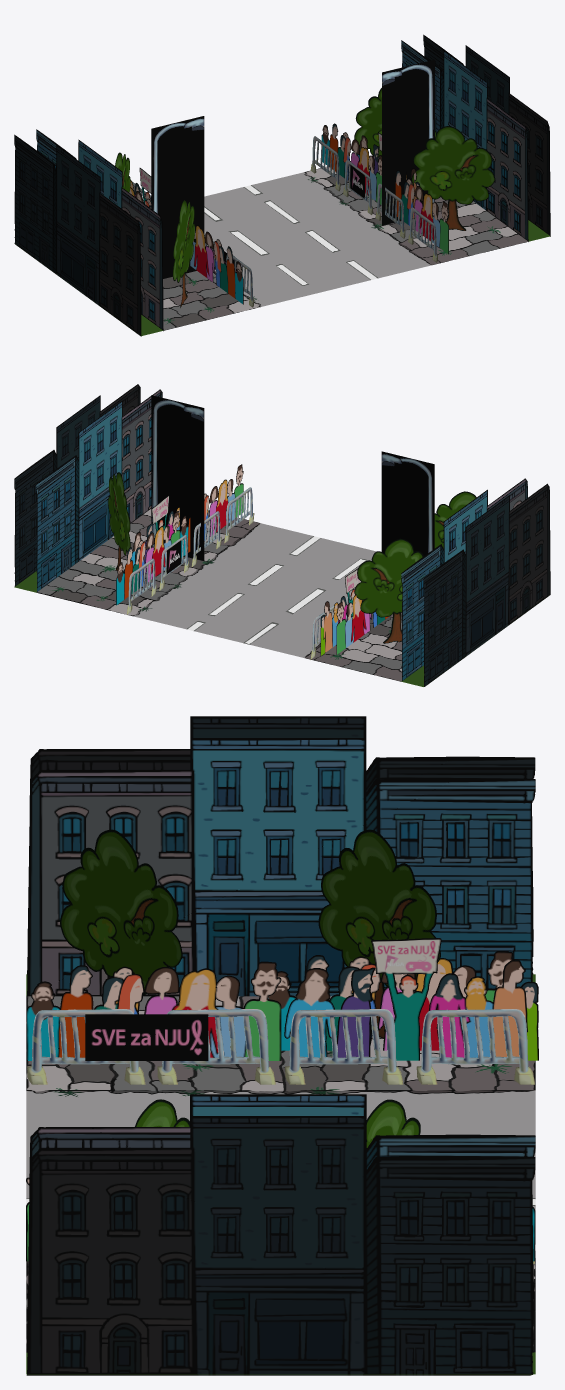
The model's file is Scene1_backface.fbx.
3 views of the same model, one above another, from view 1: azimuth 30°, elevation 25°; view 2: azimuth 150°, elevation 25°; view 3: azimuth 270°, elevation 25° (orthographic). The views are drawn at different scales.
Visible parts, largest first — view 1: Road.001, Buildings-Dark-L, Buildings-Light-R, Lamp-Post-R, Lamp-Post-L, Tree.003, Buildings-Dark-R, Buildings-Light-L, crowd.002, crowd, crowd.001, Tree (+6 smaller); view 2: Road.001, Buildings-Dark-L, Buildings-Light-R, Lamp-Post-R, Buildings-Dark-R, Buildings-Light-L, Lamp-Post-L, Tree.001, crowd.001, crowd, crowd.003, Tree.002 (+7 smaller); view 3: Buildings-Dark-R, Buildings-Light-L, Road.001, crowd2, Tree, crowd.002, Buildings-Light-R, Buildings-Dark-L, Tree.001, Logo_sznj, crowd.003, Fence-L.003 (+5 smaller).
Boxes of the visible parts, <box> form: Road.001: <box>16,155,550,335</box>; Buildings-Dark-L: <box>14,134,141,336</box>; Buildings-Light-R: <box>401,40,528,241</box>; Lamp-Post-R: <box>382,59,434,225</box>; Lamp-Post-L: <box>151,116,204,278</box>; Tree.003: <box>411,126,495,230</box>; Buildings-Dark-R: <box>423,34,550,236</box>; Buildings-Light-L: <box>36,129,163,331</box>; crowd.002: <box>190,225,243,304</box>; crowd: <box>395,170,448,254</box>; crowd.001: <box>321,123,381,204</box>; Tree: <box>172,200,195,307</box>; Road.001: <box>14,509,548,686</box>; Buildings-Dark-L: <box>423,483,550,686</box>; Buildings-Light-R: <box>36,389,162,591</box>; Lamp-Post-R: <box>151,395,204,560</box>; Buildings-Dark-R: <box>14,384,140,586</box>; Buildings-Light-L: <box>401,478,527,680</box>; Lamp-Post-L: <box>381,451,434,555</box>; Tree.001: <box>354,538,423,643</box>; crowd.001: <box>116,511,179,605</box>; crowd: <box>180,464,243,557</box>; crowd.003: <box>336,594,388,654</box>; Tree.002: <box>108,472,130,570</box>; Buildings-Dark-R: <box>26,1116,535,1375</box>; Buildings-Light-L: <box>26,738,535,996</box>; Road.001: <box>26,974,535,1374</box>; crowd2: <box>284,938,538,1060</box>; Tree: <box>60,829,182,994</box>; crowd.002: <box>26,961,281,1060</box>; Buildings-Light-R: <box>26,1094,535,1352</box>; Buildings-Dark-L: <box>27,716,535,974</box>; Tree.001: <box>318,829,440,1038</box>; Logo_sznj: <box>85,1014,208,1060</box>; crowd.003: <box>268,951,513,1050</box>; Fence-L.003: <box>416,1009,534,1084</box>.
Bounding box in the file's own units: 1115 × 400 × 604.
Materials: 15 (14 with a texture image).
